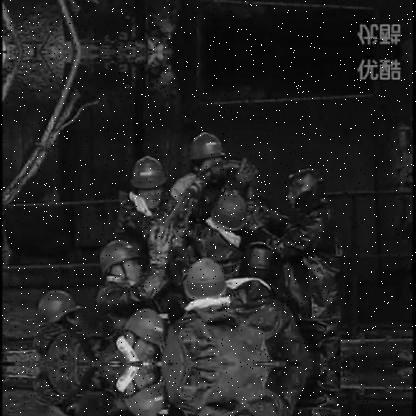Helmet: (118, 307, 168, 372), (113, 359, 171, 415), (178, 253, 230, 309), (95, 237, 148, 290), (34, 281, 84, 336), (127, 150, 170, 209), (210, 187, 256, 241), (184, 129, 226, 178)
